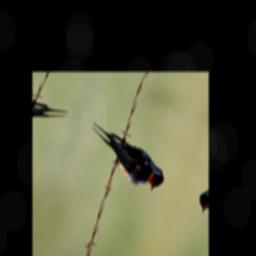Swallow: (78, 121, 175, 196)
